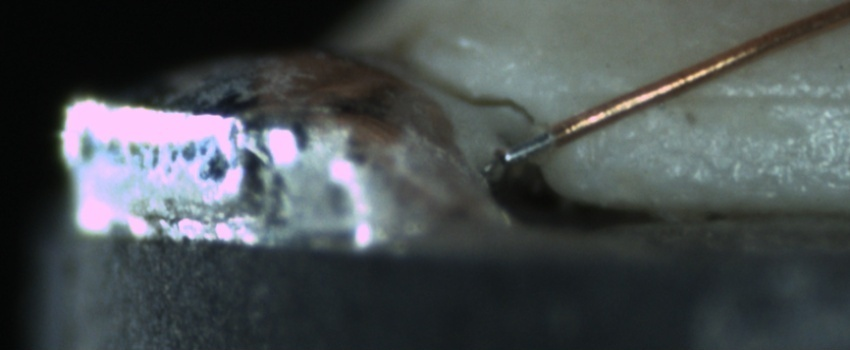DL: (568, 64, 846, 128)
TS: (493, 131, 557, 166)
TTCW: (489, 118, 570, 168)
